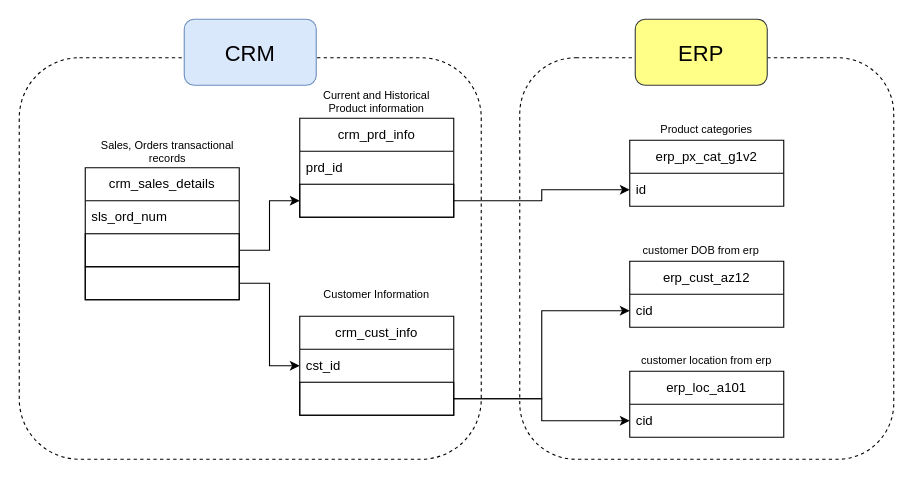
The diagram is 913 pixels wide and 479 high, and some of its shapes have lost their labels. The shapes that lost their labels are listed below. From the top down, each one's centre as x and y in pixels, then its label:
At (x=376, y=200): "prd_key".
At (x=161, y=250): "sls_prd_key".
At (x=161, y=283): "sls_cust_id".
At (x=376, y=398): "cst_key".
